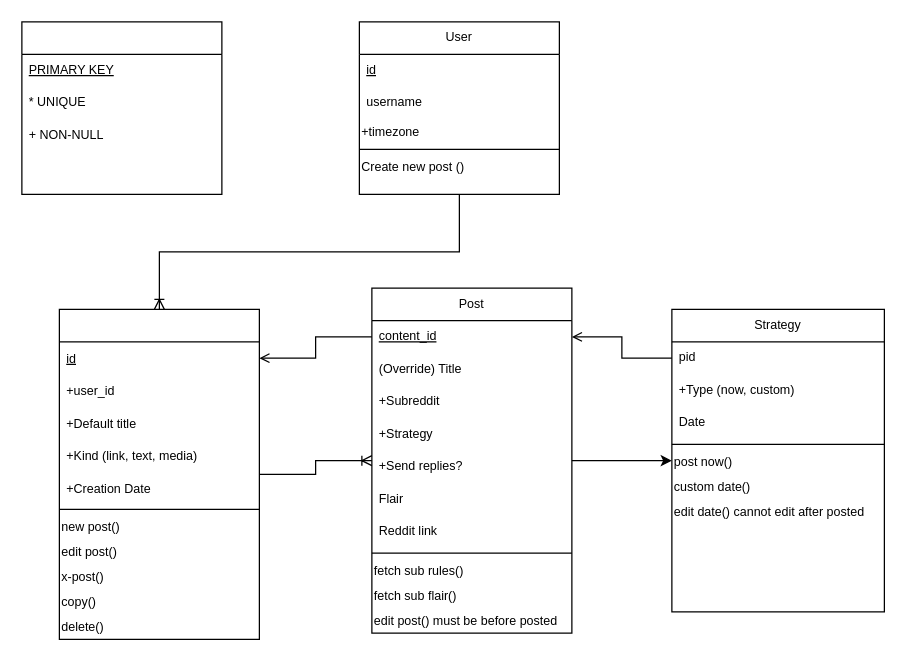
This 906x661 diagram has some shape labels left out. Each missing label, with the box of its shape:
Content: (58, 308, 259, 639)
Legend: (21, 21, 222, 194)
